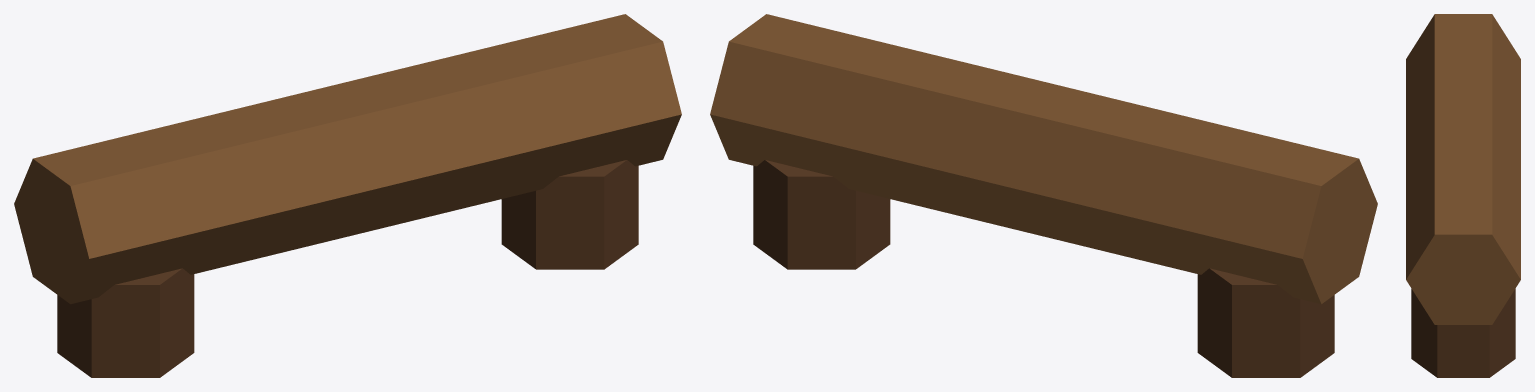
File: PR_LogBench.fbx
3 renders of one model, left to right at view 1: azimuth 30°, elevation 25°; view 2: azimuth 150°, elevation 25°; view 3: azimuth 270°, elevation 25°, orthographic. The views are drawn at different scales.
Parts seen in each view (by area): view 1: PR_LogBench; view 2: PR_LogBench; view 3: PR_LogBench.
Boxes of the visible parts, <box> form: PR_LogBench: <box>14,14,681,377</box>; PR_LogBench: <box>710,14,1377,377</box>; PR_LogBench: <box>1406,14,1520,377</box>.
Size of the model in its own units: 2 by 0.44 by 0.6405.
